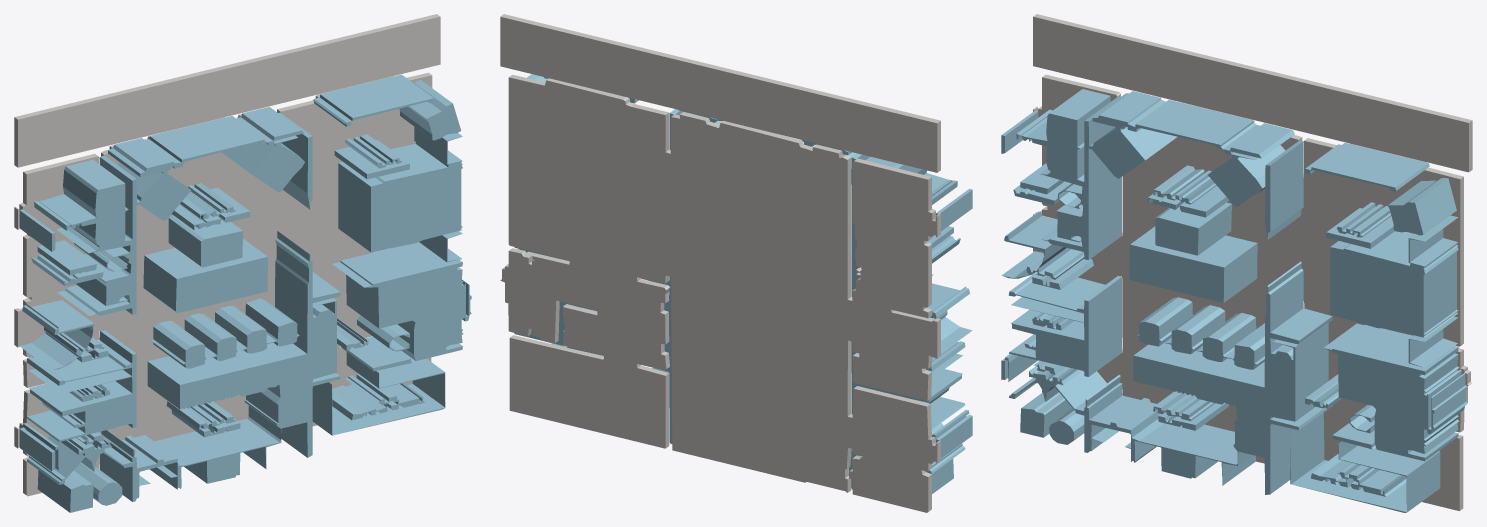
3 views of the same model, side by side, from view 1: azimuth 30°, elevation 25°; view 2: azimuth 150°, elevation 25°; view 3: azimuth 330°, elevation 25° (orthographic). The views are drawn at different scales.
Visible parts, largest first — view 1: world; view 2: world; view 3: world.
Part boxes in pixels (bbox=[...]): world: bbox=[14, 14, 471, 512]; world: bbox=[500, 14, 972, 512]; world: bbox=[1001, 14, 1472, 512].
Size of the model in its own units: 10.23 by 8.77 by 1.51.
